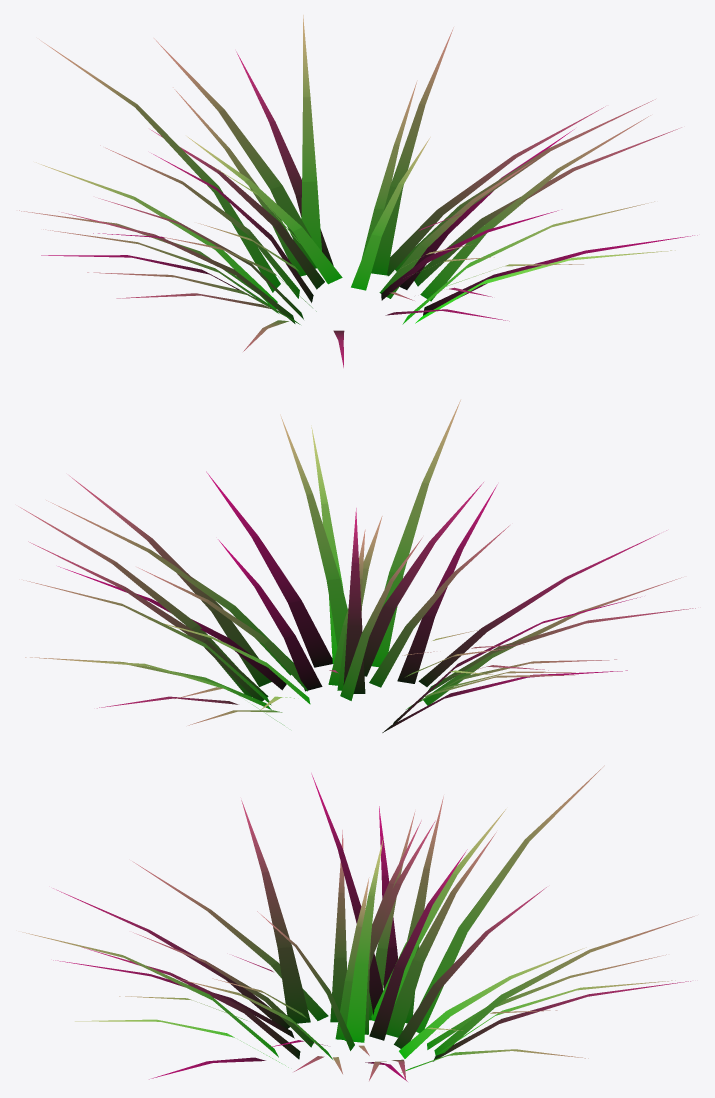
Rendered from grass_c_lod.glb.
3 renders of one model, top to bottom at view 1: azimuth 30°, elevation 25°; view 2: azimuth 150°, elevation 25°; view 3: azimuth 270°, elevation 25°, orthographic. The views are drawn at different scales.
Parts seen in each view (by area): view 1: Grass_C_lod; view 2: Grass_C_lod; view 3: Grass_C_lod.
Boxes of the visible parts, box(x1,y1,x2,y2) form: Grass_C_lod: box(19, 15, 697, 367); Grass_C_lod: box(18, 400, 695, 732); Grass_C_lod: box(22, 765, 694, 1081).
Size of the model in its own units: 1.78 by 0.581 by 1.79.
